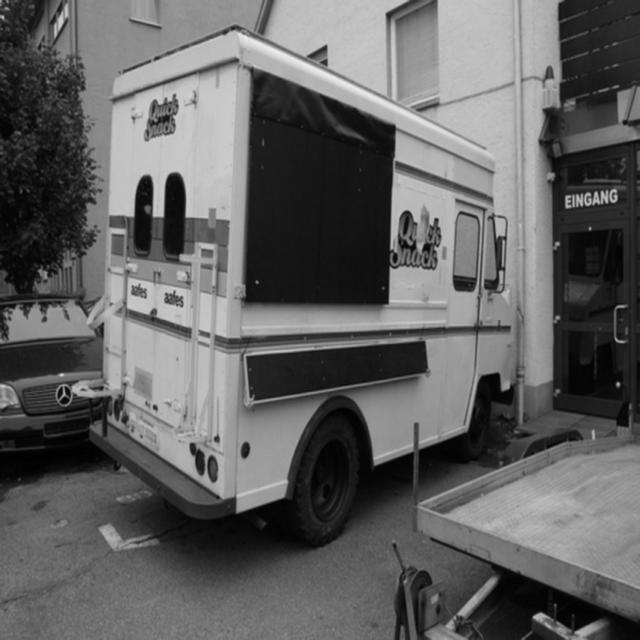car: (0, 294, 104, 448)
truck: (84, 22, 517, 541)
